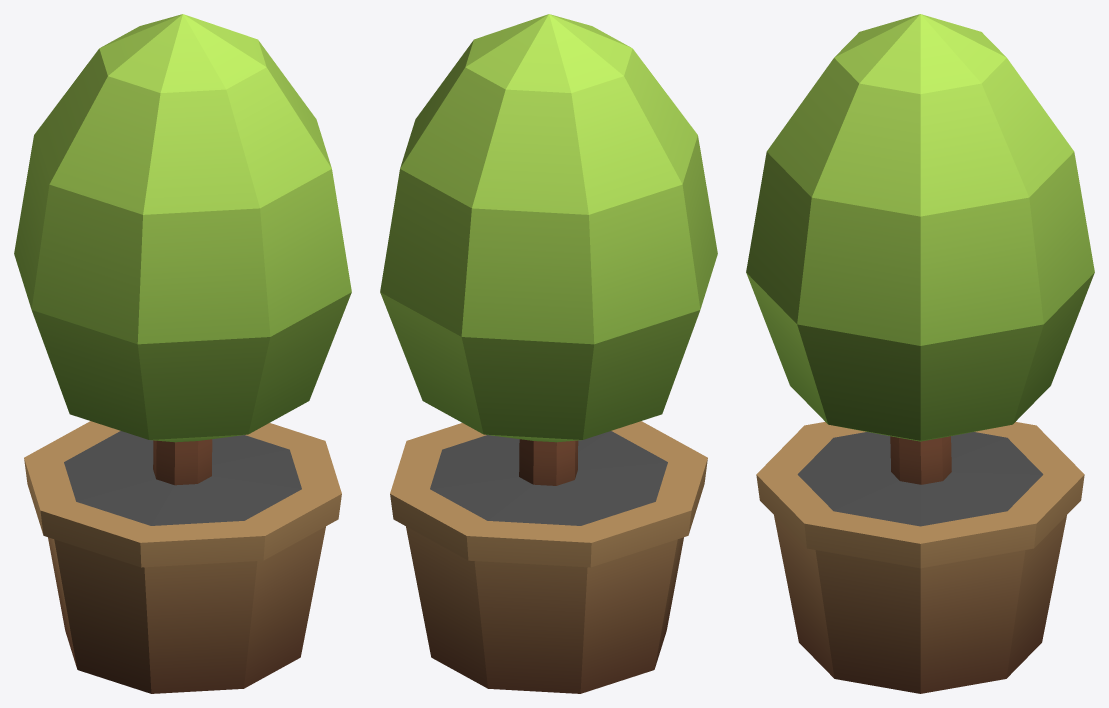
File: potted tree.fbx
3 views of the same model, side by side, from view 1: azimuth 30°, elevation 25°; view 2: azimuth 150°, elevation 25°; view 3: azimuth 270°, elevation 25° (orthographic).
Parts seen in each view (by area): view 1: potted_tree; view 2: potted_tree; view 3: potted_tree.
Boxes of the visible parts, x1,y1,x2,y2 form: potted_tree: (14,14,351,693); potted_tree: (380,14,717,693); potted_tree: (746,14,1094,693).
Bounding box in the file's own units: 89.71 × 178 × 89.71.
1 material, 1 textured.
